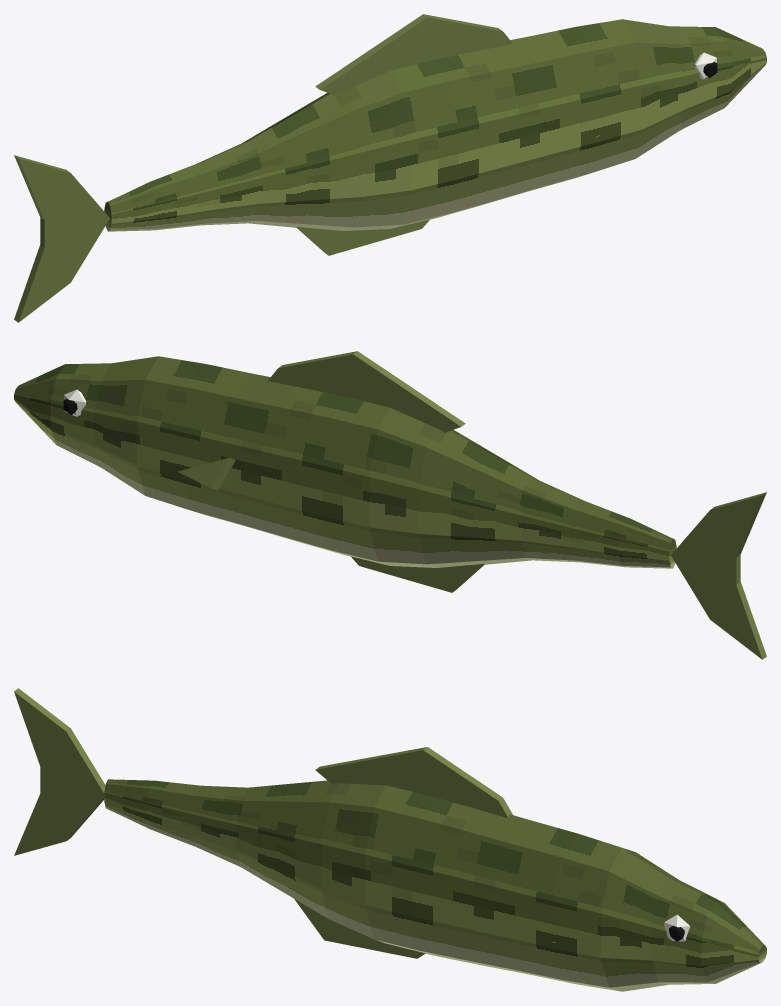
The model's file is kelp_greenling.glb.
The picture shows the model from 3 angles, top to bottom: view 1: azimuth 30°, elevation 25°; view 2: azimuth 150°, elevation 25°; view 3: azimuth 330°, elevation 25°; orthographic projection.
Parts seen in each view (by area): view 1: fish_kelp_greenling; view 2: fish_kelp_greenling; view 3: fish_kelp_greenling.
Part boxes in pixels (box(x1,y1,x2,y2)): fish_kelp_greenling: box(14, 14, 766, 322); fish_kelp_greenling: box(14, 351, 766, 659); fish_kelp_greenling: box(14, 688, 766, 991).
Bounding box in the file's own units: 1.14 × 0.3129 × 0.1501.
4 materials, 1 textured.
